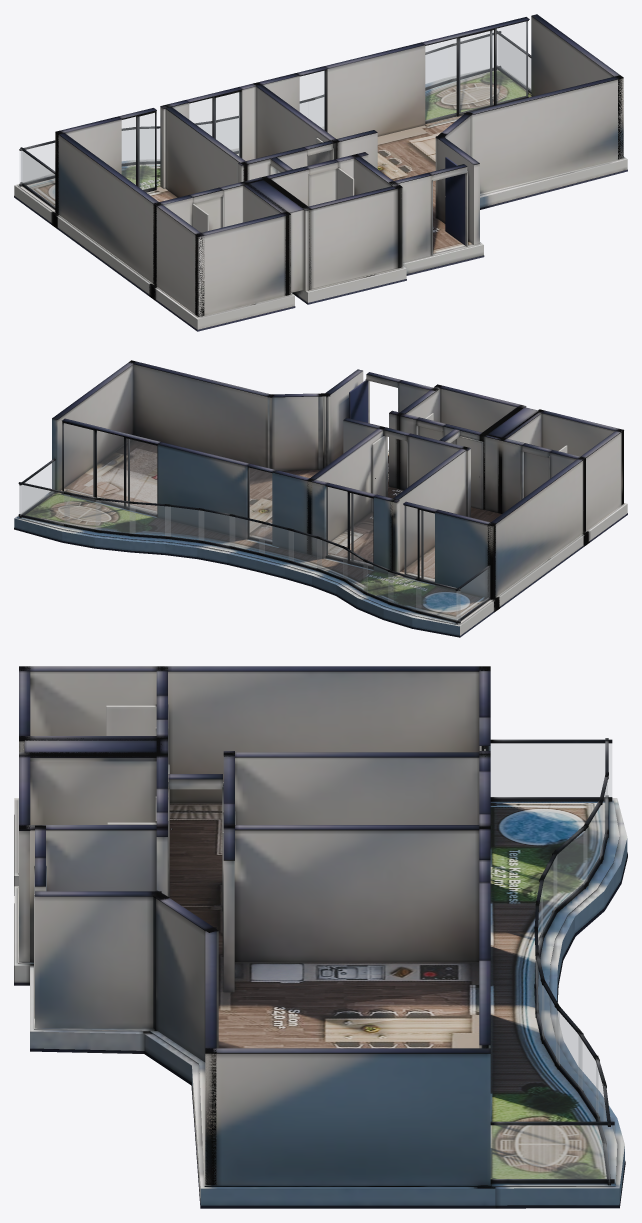
The picture shows the model from 3 angles, top to bottom: view 1: azimuth 30°, elevation 25°; view 2: azimuth 150°, elevation 25°; view 3: azimuth 270°, elevation 25°; orthographic projection. The views are drawn at different scales.
Visible parts, largest first — view 1: plan, glass3_m, glass0_m, glass1_m, glass2_m, railg1_m, railg15_m, railg2_m, railg0_m, railg14_m, railg5_m, railg7_m; view 2: plan, glass3_m, glass1_m, glass0_m, railg15_m, glass2_m, railg2_m, railg12_m, railg13_m, railg11_m, railg14_m, railg10_m (+9 smaller); view 3: plan, railg0_m, railg1_m, railg5_m, railg12_m, railg13_m, railg4_m, railg11_m, railg6_m.
Part boxes in pixels (x1=…): plan: x1=14, y1=14, x2=627, y2=331; glass3_m: x1=425, y1=21, x2=527, y2=121; glass0_m: x1=122, y1=113, x2=154, y2=189; glass1_m: x1=189, y1=92, x2=239, y2=156; glass2_m: x1=300, y1=71, x2=324, y2=129; railg1_m: x1=21, y1=151, x2=54, y2=206; railg15_m: x1=454, y1=34, x2=497, y2=78; railg2_m: x1=20, y1=143, x2=54, y2=183; railg0_m: x1=498, y1=35, x2=530, y2=90; railg14_m: x1=426, y1=48, x2=448, y2=86; railg5_m: x1=140, y1=128, x2=159, y2=161; railg7_m: x1=217, y1=118, x2=238, y2=151; plan: x1=14, y1=360, x2=627, y2=637; glass3_m: x1=64, y1=423, x2=156, y2=513; glass1_m: x1=326, y1=487, x2=372, y2=566; glass0_m: x1=404, y1=506, x2=434, y2=581; railg15_m: x1=19, y1=485, x2=69, y2=524; glass2_m: x1=249, y1=468, x2=271, y2=541; railg2_m: x1=416, y1=580, x2=460, y2=620; railg12_m: x1=130, y1=504, x2=170, y2=536; railg13_m: x1=96, y1=500, x2=135, y2=533; railg11_m: x1=165, y1=506, x2=203, y2=540; railg14_m: x1=64, y1=494, x2=100, y2=530; railg10_m: x1=199, y1=510, x2=234, y2=546; plan: x1=14, y1=666, x2=627, y2=1208; railg0_m: x1=491, y1=1125, x2=614, y2=1179; railg1_m: x1=491, y1=743, x2=611, y2=797; railg5_m: x1=554, y1=828, x2=587, y2=909; railg12_m: x1=556, y1=1009, x2=581, y2=1090; railg13_m: x1=578, y1=1035, x2=598, y2=1115; railg4_m: x1=583, y1=805, x2=602, y2=884; railg11_m: x1=542, y1=985, x2=559, y2=1065; railg6_m: x1=541, y1=856, x2=556, y2=935.
Size of the model in its own units: 14.34 by 2.62 by 9.52.
Materials: 2 (1 with a texture image).
